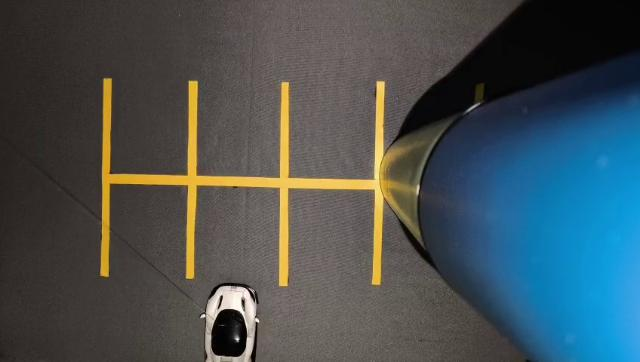toy_car: (182, 262, 326, 362)
